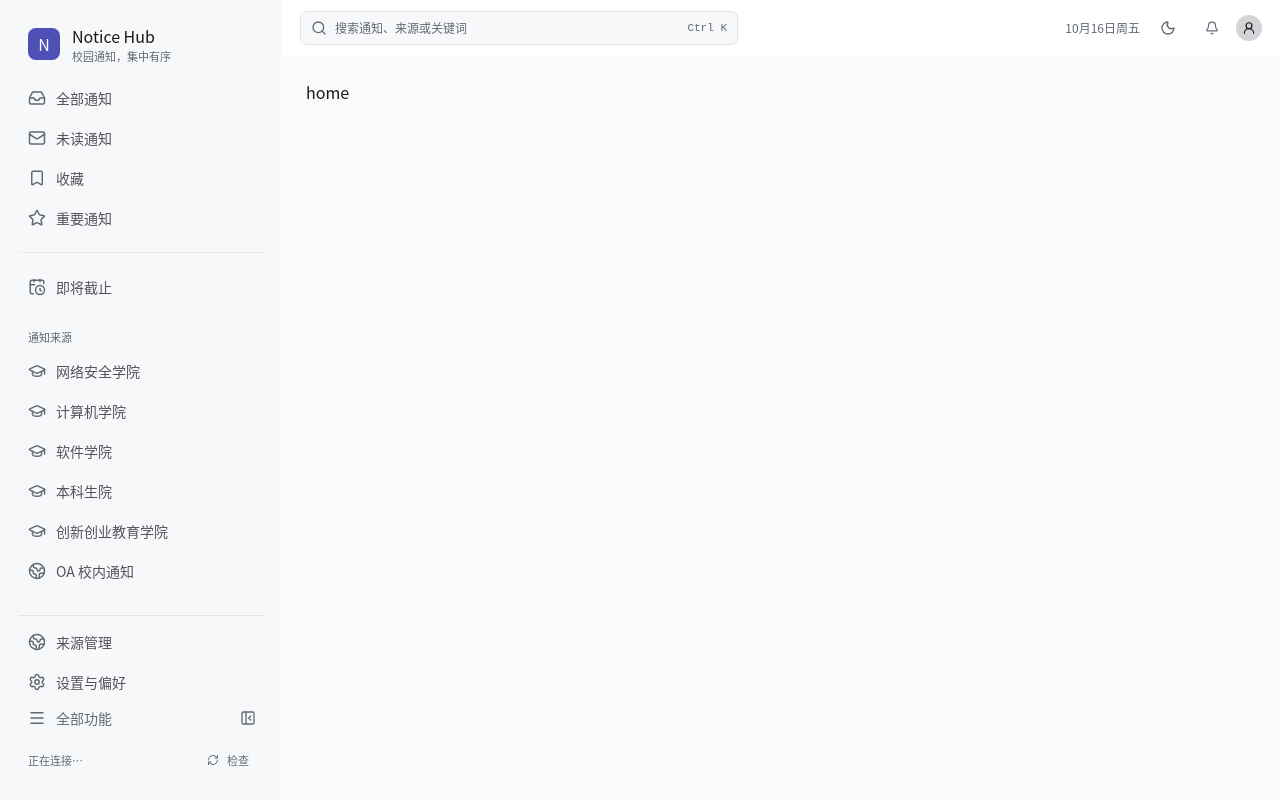
Test: AppShell navigation › collapses the sidebar and persists the preference
Expected: the navigation bar named "主导航" is shown, top-left (18, 80), bottom-right (264, 305)
Click the button named "折叠侧边栏". click: click(248, 718)
box: top-left (232, 702), bottom-right (264, 734)
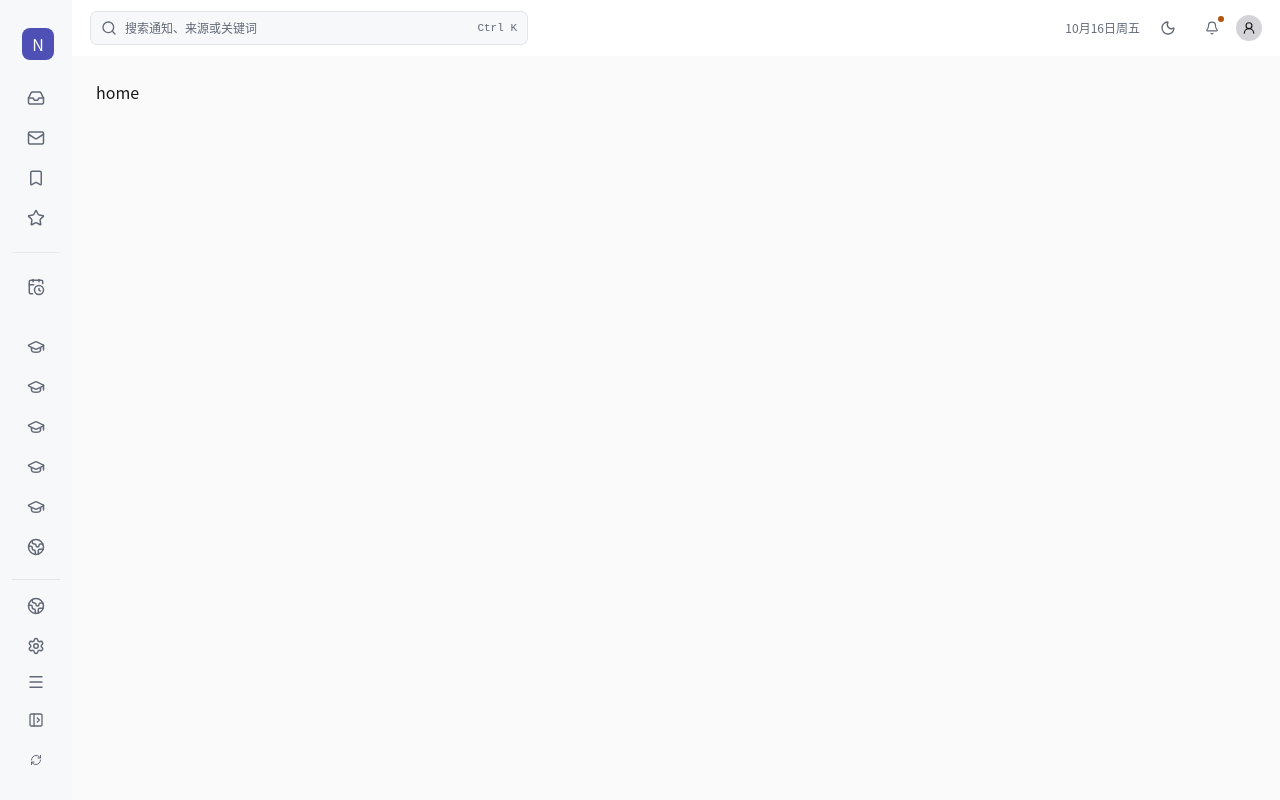
Expected: the button named "展开侧边栏" is shown, top-left (20, 704), bottom-right (52, 736)
